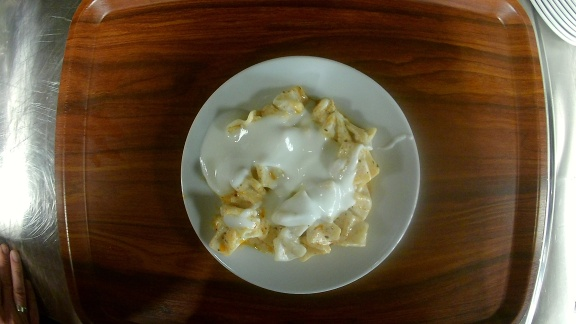manti: (179, 52, 423, 297)
